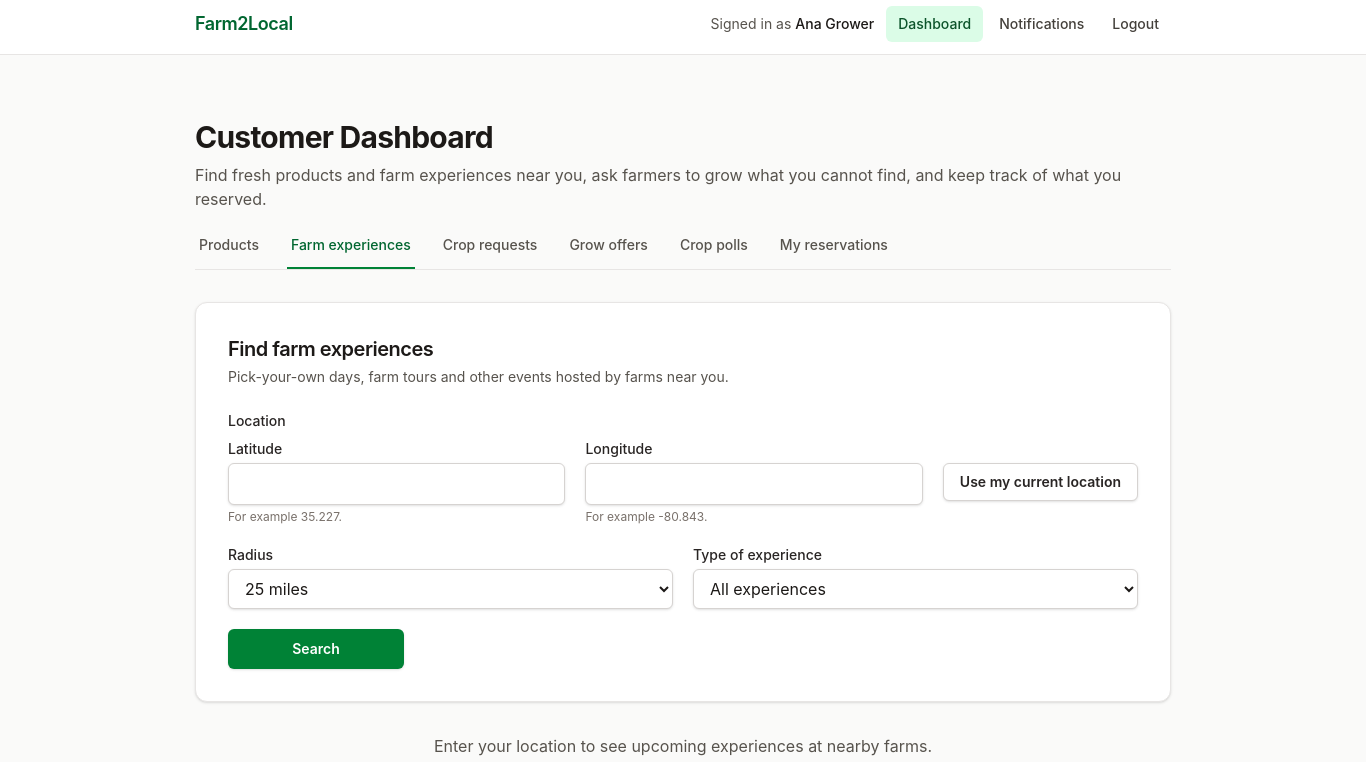
it: finding farm experiences › searches with the location, radius and type that were chosen
Step 1. Type "35.2271" into the field labelled "Latitude" → (397, 484), box left=228, top=463, right=565, bottom=505
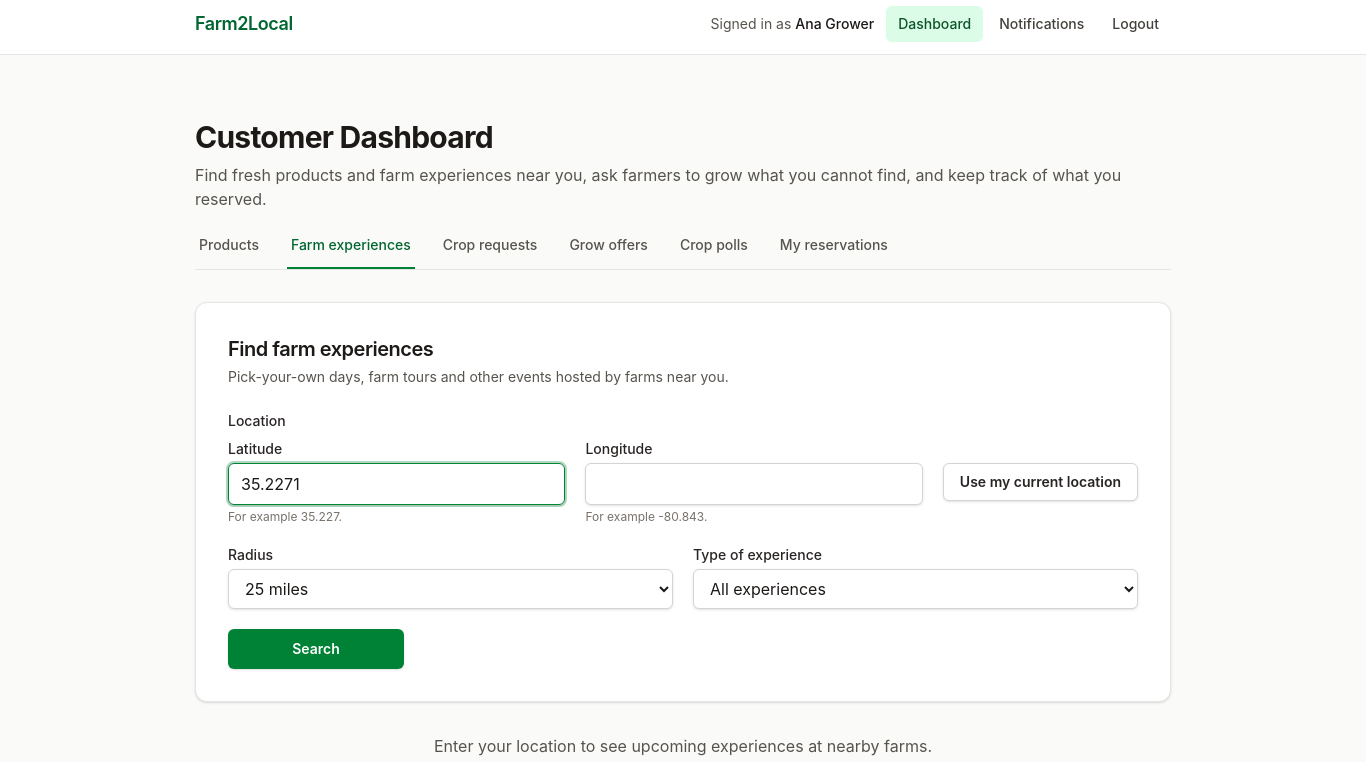
Step 2. Type "-80.8431" into the field labelled "Longitude" → (754, 484), box left=585, top=463, right=923, bottom=505
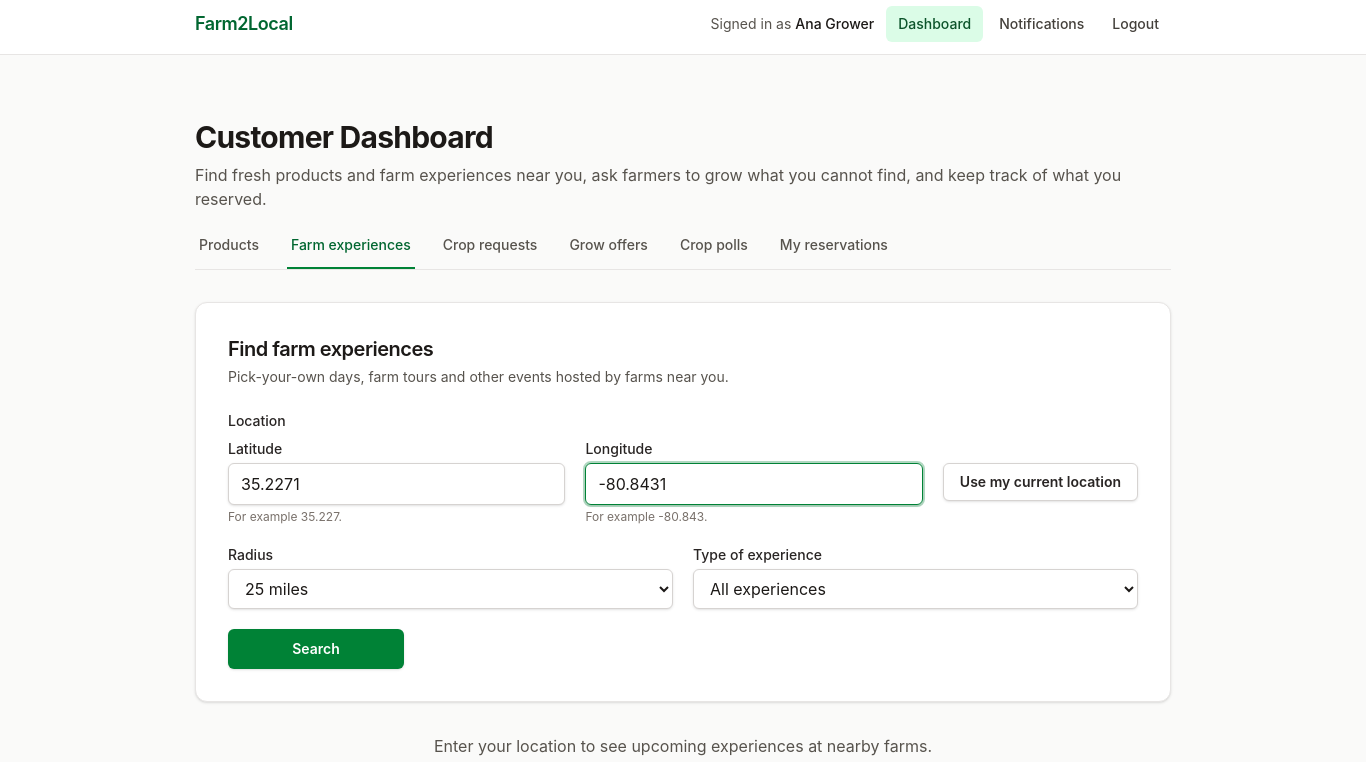
Step 3. Select "50 miles" in the dropdown labelled "Radius" → (450, 589), box left=228, top=569, right=673, bottom=609
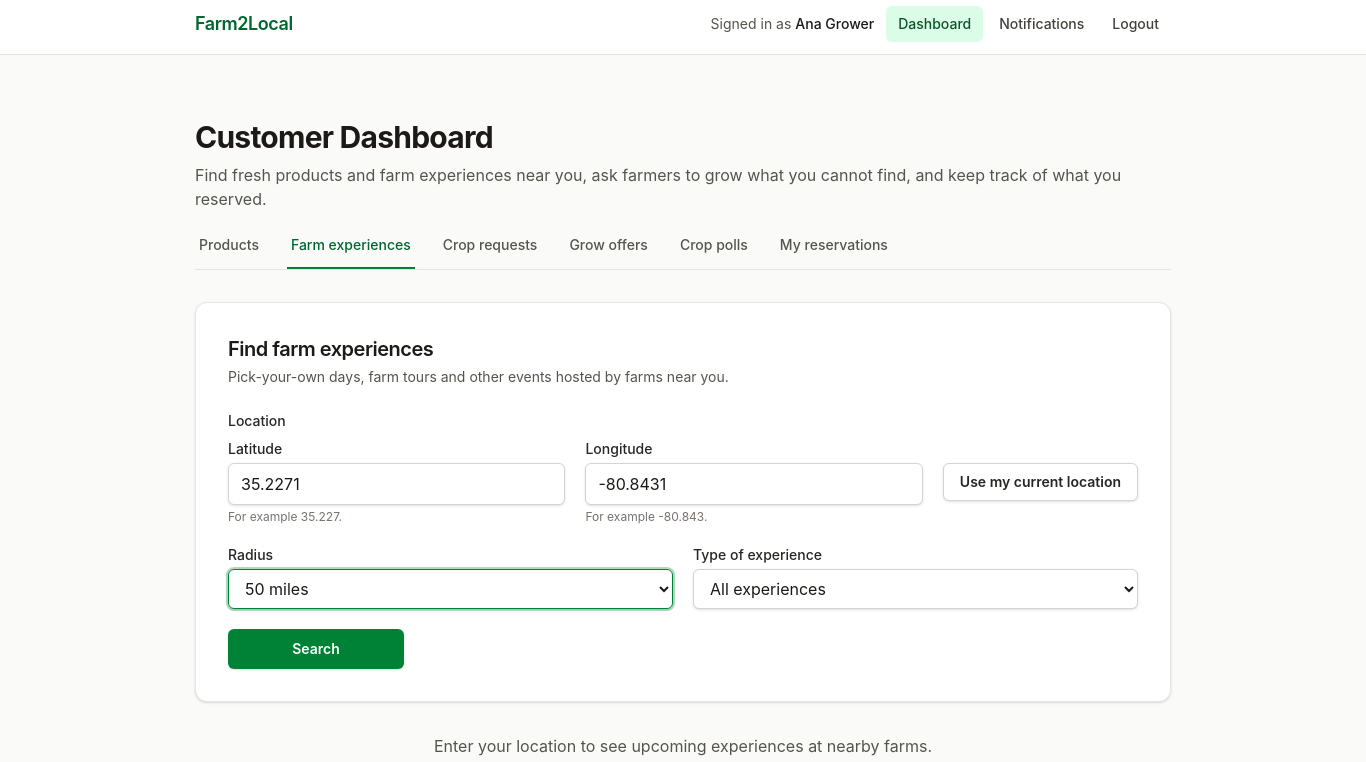
Step 4. Select "Farm tour" in the dropdown labelled "Type of experience" → (916, 589), box left=693, top=569, right=1138, bottom=609
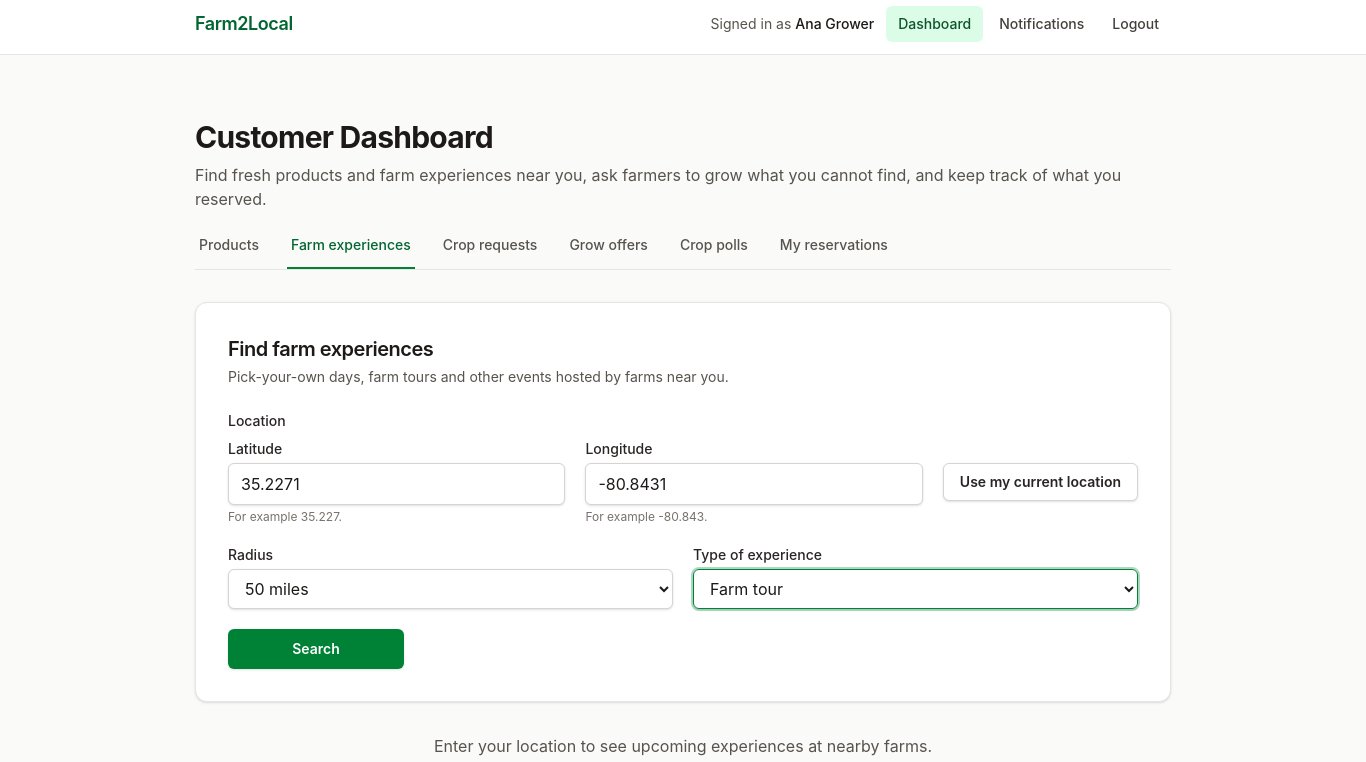
Step 5. Click the button "Search" → click(316, 649), box left=228, top=629, right=404, bottom=669
(page scrolled)
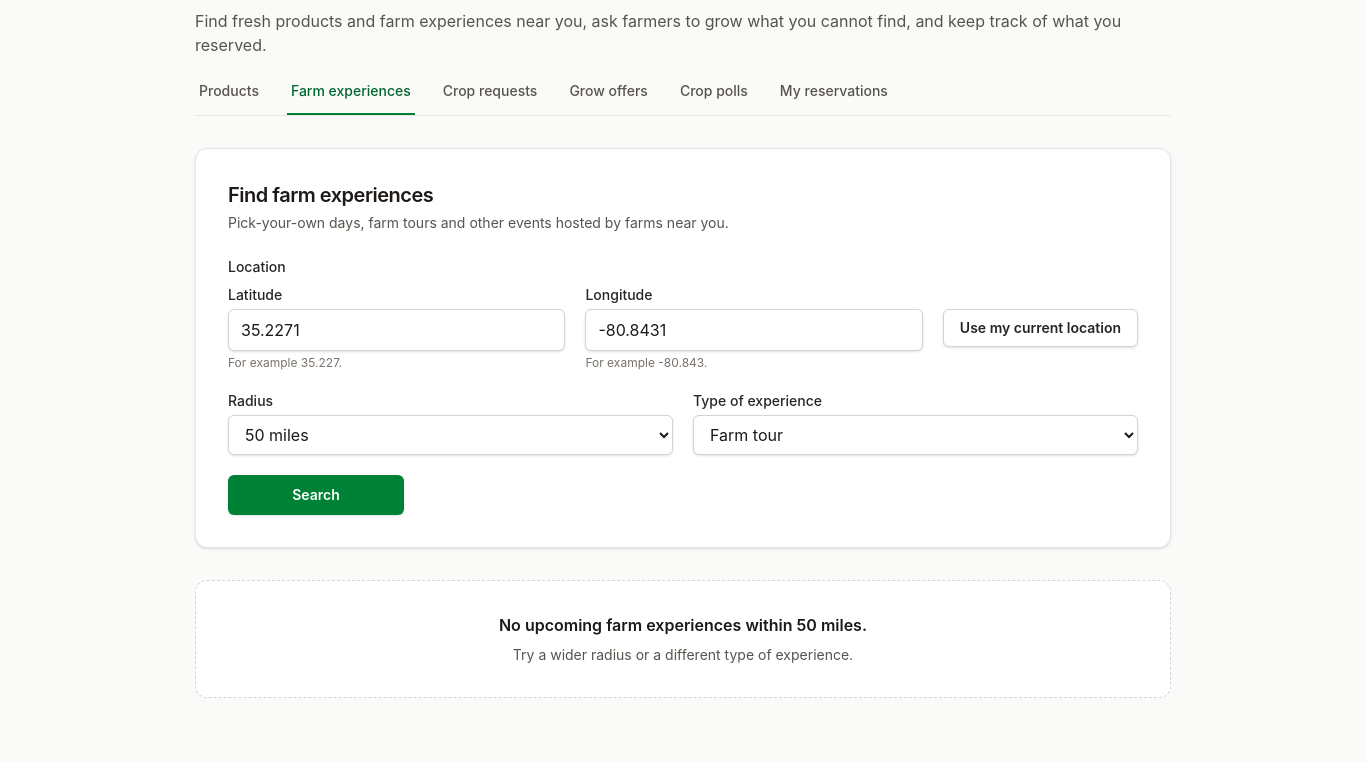
expect the text "No upcoming farm experiences within 50 miles." is shown: met, box left=499, top=615, right=867, bottom=635
